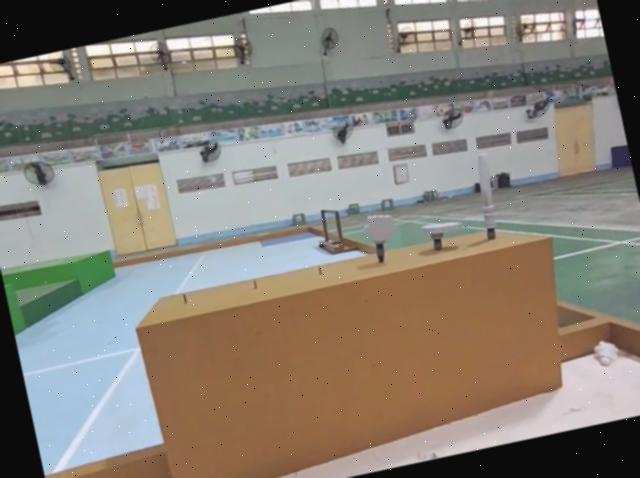Fist: (357, 209, 401, 268)
Hand: (418, 218, 463, 256)
Sph: (465, 152, 505, 242)
